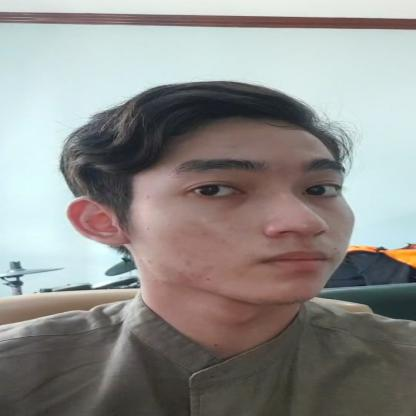Palm: (16, 54, 393, 356)
